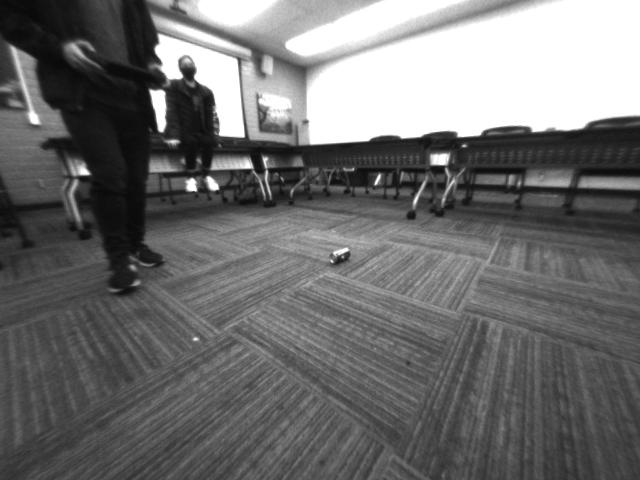can: (325, 241, 355, 272)
